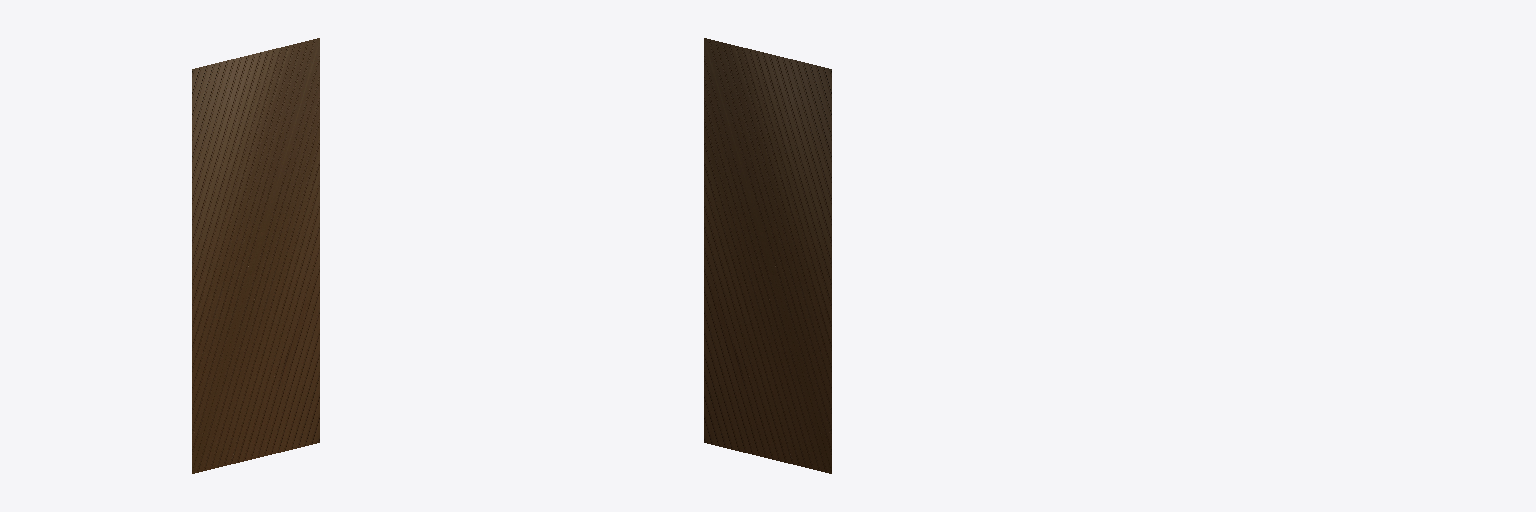
3 renders of one model, left to right at view 1: azimuth 30°, elevation 25°; view 2: azimuth 150°, elevation 25°; view 3: azimuth 270°, elevation 25°, orthographic.
Parts seen in each view (by area): view 1: door; view 2: door; view 3: none.
Boxes of the visible parts, <box> form: door: <box>192,38,319,473</box>; door: <box>704,38,831,473</box>.
Bounding box in the file's own units: 200 × 600 × 0.
1 materials, 1 textured.